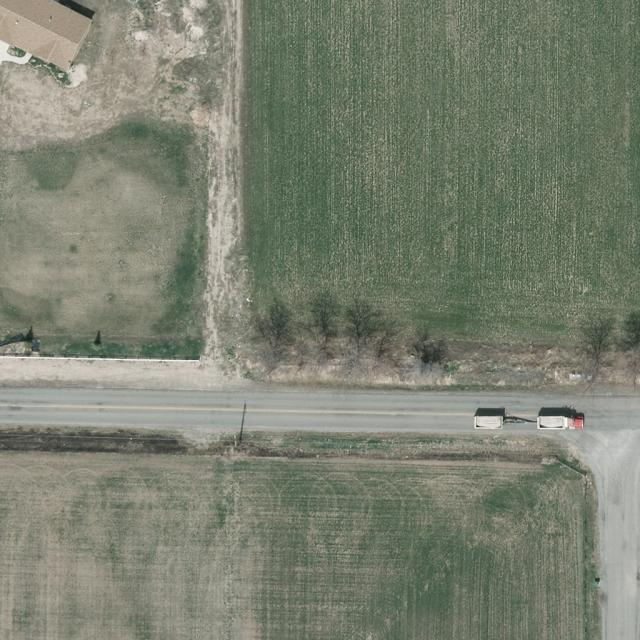vehicle: (536, 416, 586, 430)
